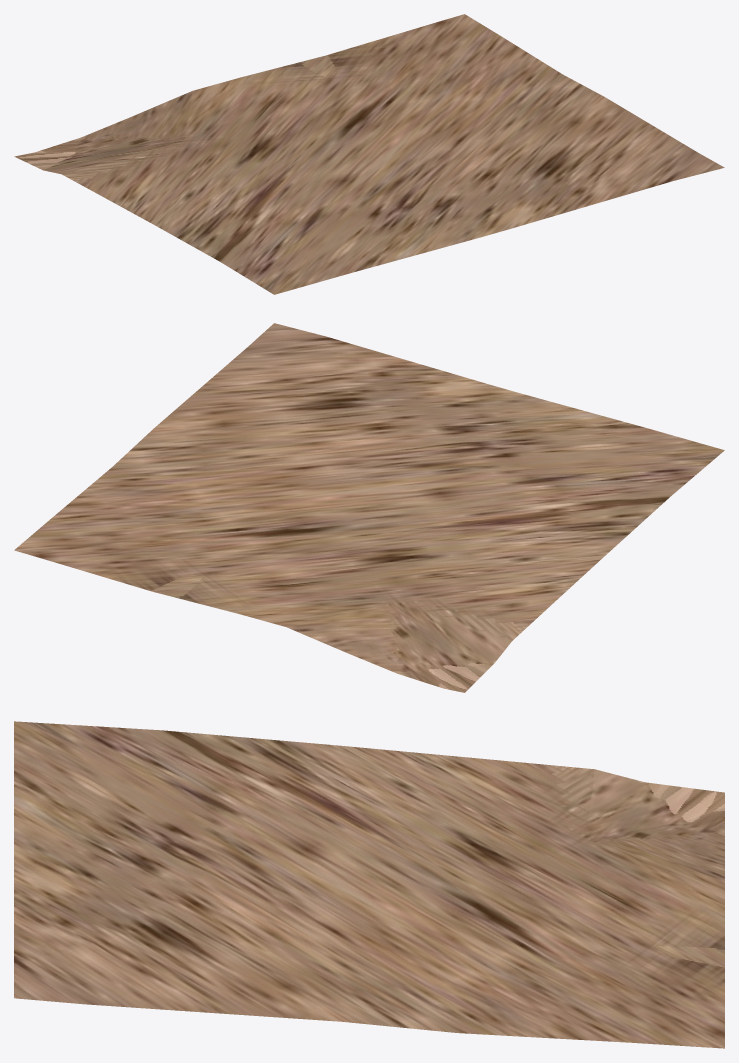
The picture shows the model from 3 angles, top to bottom: view 1: azimuth 30°, elevation 25°; view 2: azimuth 150°, elevation 25°; view 3: azimuth 270°, elevation 25°; orthographic projection. The views are drawn at different scales.
Size of the model in its own units: 2.09 by 0.311 by 2.09.
3 materials, 3 textured.
